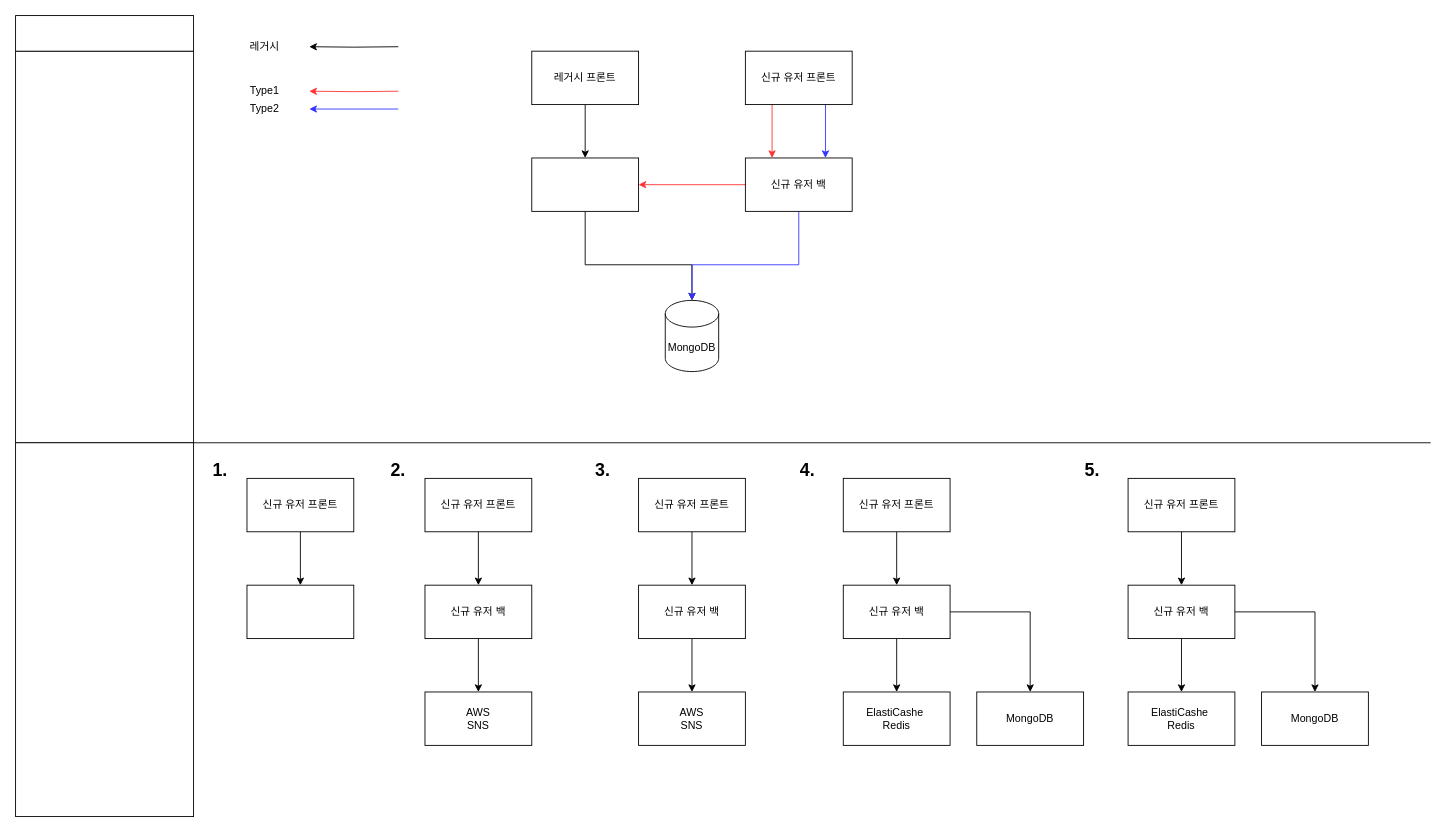
Some shapes in this 1447 by 832 pixel diagram are drawn without their labels. The box of each missing label's shape, as (x1, y1, x2, y2) in pixels:
AWS S3: (246, 584, 354, 639)
dev키발급 prod키발급 sdk 콜조회 키 조회 키 상세정보 업데이트(ip blacklist ): (15, 50, 194, 443)
SDK 다운로드 이메일 전송(키 발급 또는 연장) 리포트 이슈 로그인 서비스(Oauth): (15, 442, 194, 817)
레거시 백: (531, 157, 639, 211)
유저: (15, 15, 194, 51)
